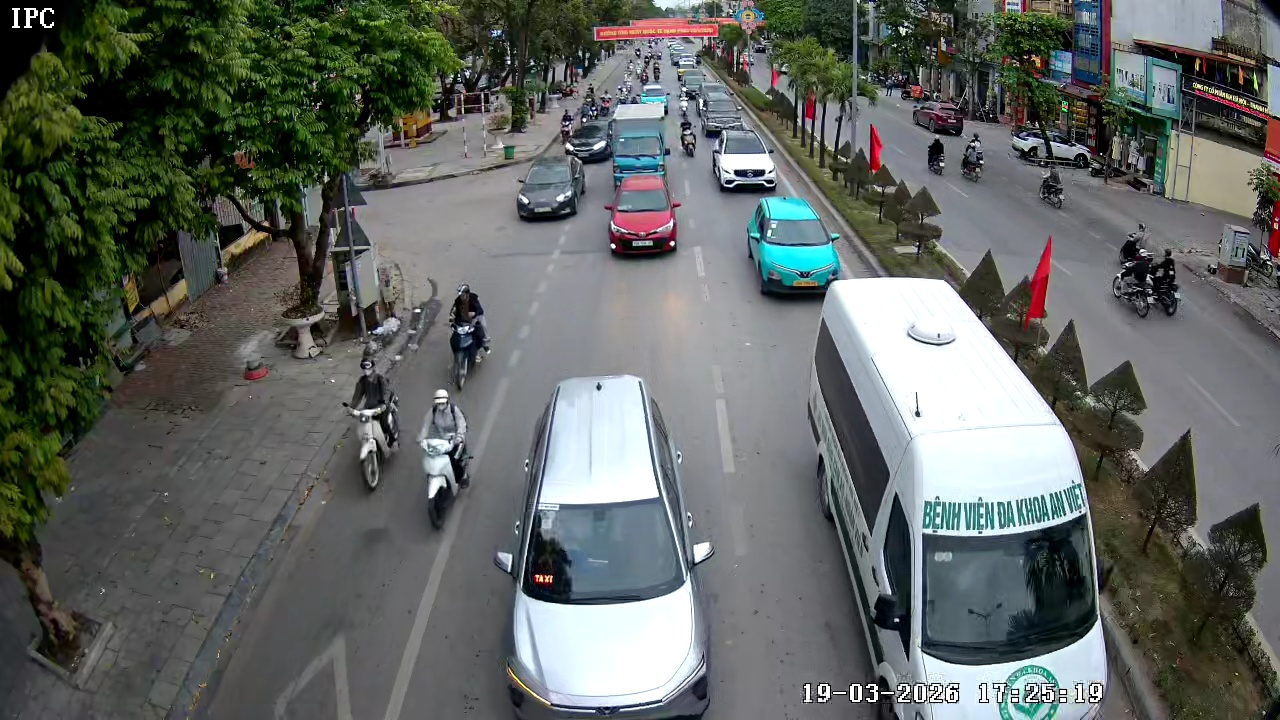bus: (795, 276, 1112, 719), (494, 373, 713, 717)
car: (745, 197, 842, 300), (604, 177, 682, 258), (515, 157, 586, 223), (712, 129, 778, 194), (610, 135, 673, 191), (566, 118, 614, 163)
motorbike: (341, 356, 401, 493), (417, 388, 473, 531), (445, 281, 492, 391), (1109, 221, 1152, 307), (1136, 246, 1182, 319), (925, 126, 947, 178), (677, 108, 698, 158)
